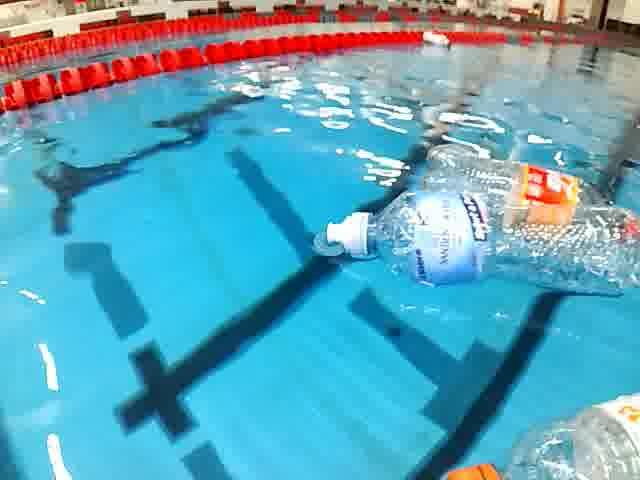Bottle: (316, 196, 640, 295), (415, 358, 640, 480), (410, 139, 640, 234)
